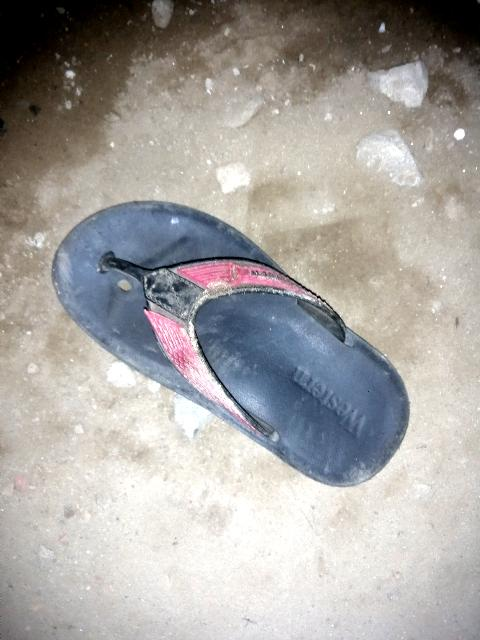sandal: (35, 156, 428, 495)
